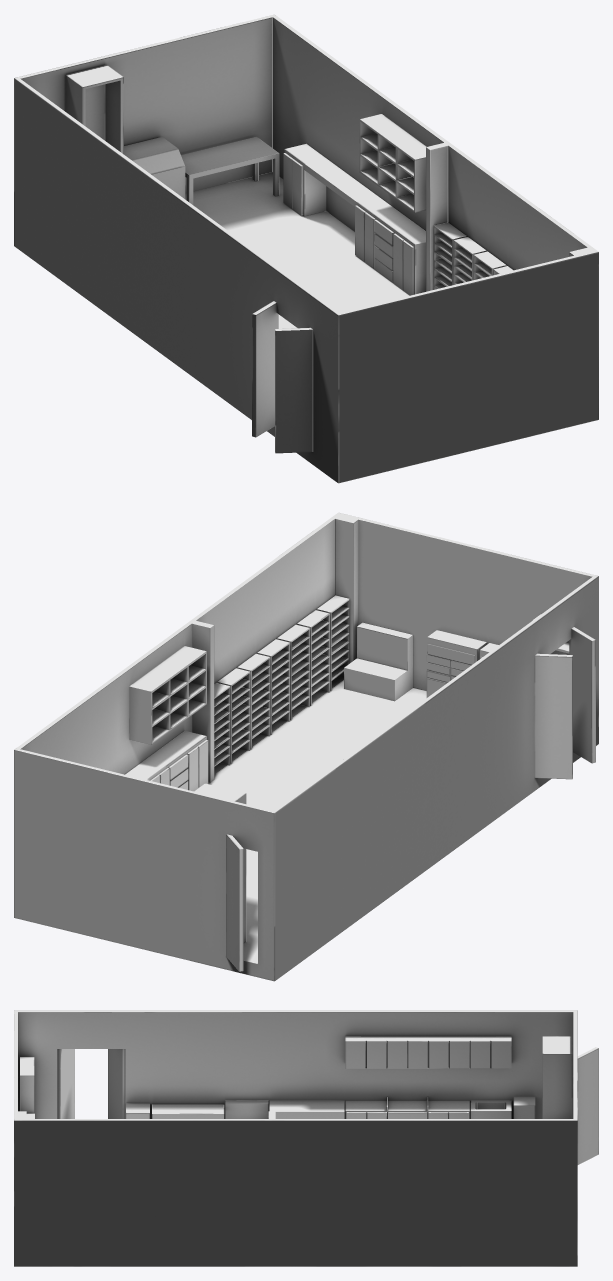
File: iLab.gltf
3 views of the same model, one above another, from view 1: azimuth 30°, elevation 25°; view 2: azimuth 150°, elevation 25°; view 3: azimuth 270°, elevation 25° (orthographic). The views are drawn at different scales.
Parts seen in each view (by area): view 1: Part 1.002; view 2: Part 1.002; view 3: Part 1.002.
Part boxes in pixels (x1=…): Part 1.002: x1=14, y1=14, x2=598, y2=483; Part 1.002: x1=14, y1=512, x2=598, y2=981; Part 1.002: x1=14, y1=1010, x2=598, y2=1266.
Bounding box in the file's own units: 143 × 79.2 × 288.
1 material, 1 textured.
